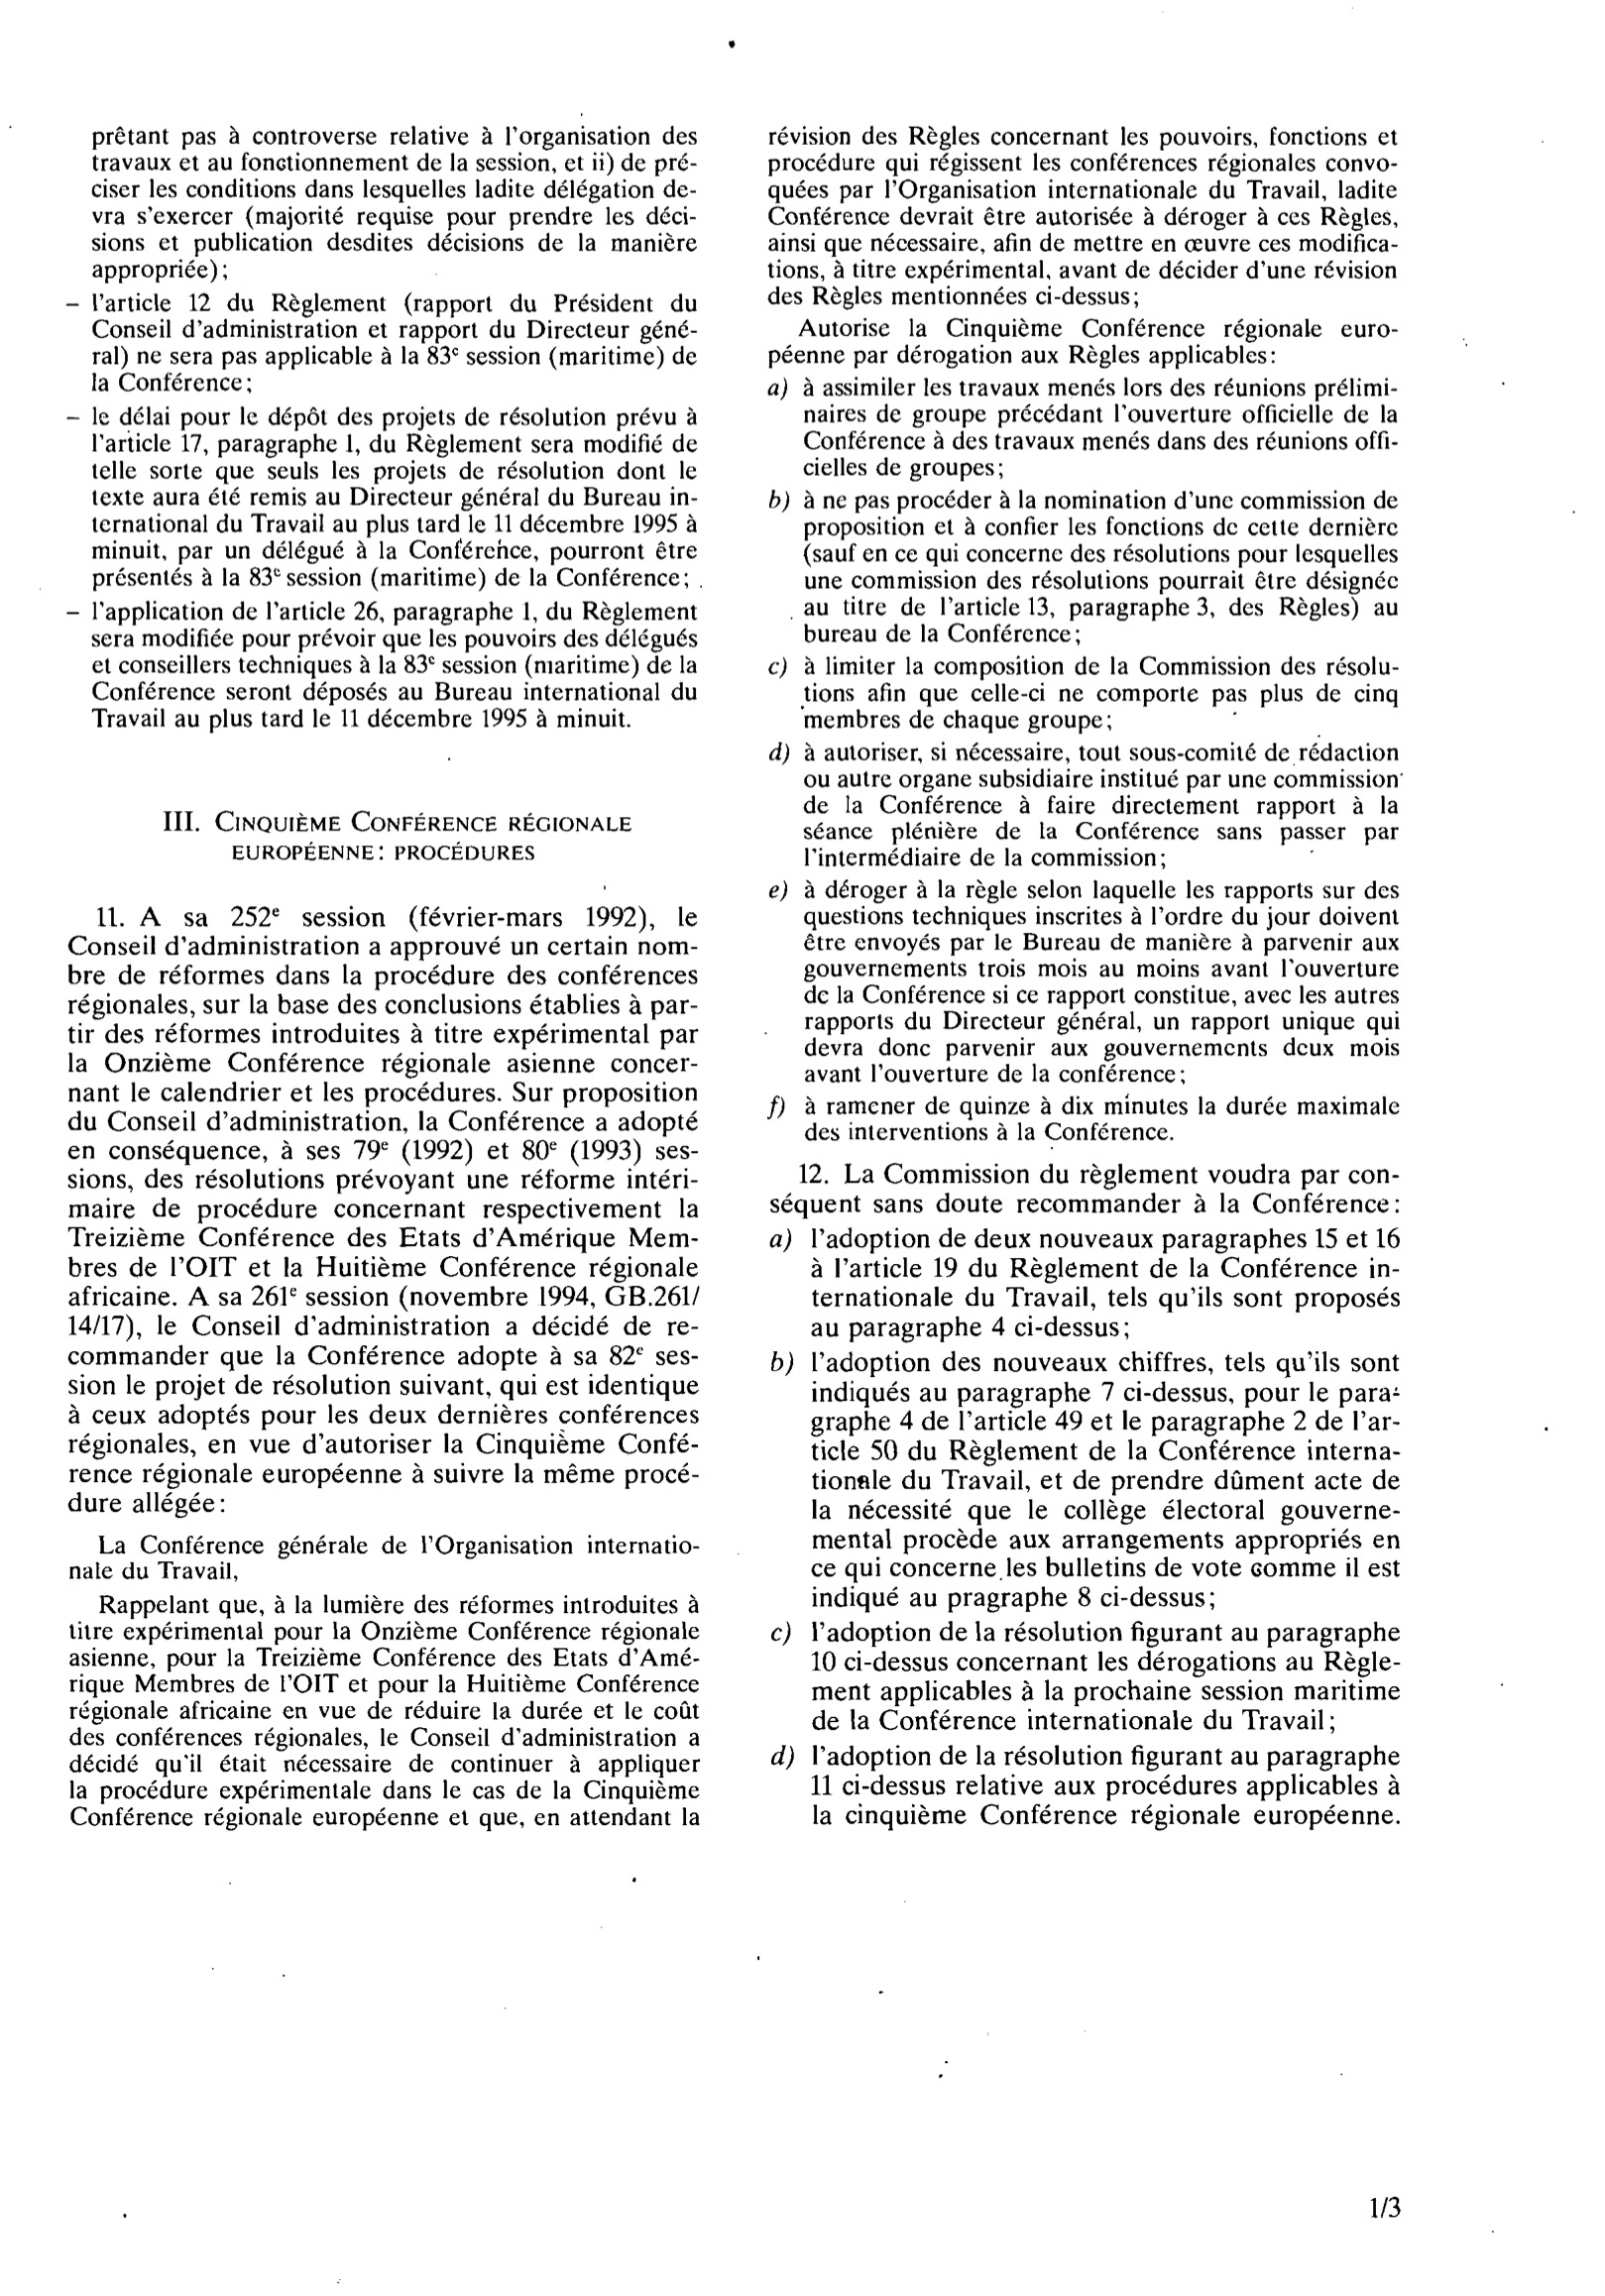MainZone-Continued: (760, 122, 1405, 311), (79, 119, 705, 286)
MainZone-Head: (150, 799, 641, 873)
MainZone-ListItem: (758, 1345, 1409, 1615), (758, 872, 1407, 1088), (58, 401, 708, 593), (759, 484, 1405, 649), (61, 596, 706, 737), (759, 738, 1405, 872), (763, 1223, 1407, 1342), (770, 1615, 1407, 1735), (59, 287, 707, 400), (759, 374, 1405, 483), (765, 1739, 1410, 1836), (759, 650, 1404, 736), (760, 1159, 1406, 1221), (757, 1089, 1403, 1148)
MainZone-P: (60, 895, 711, 1521), (60, 1589, 709, 1837), (60, 1528, 713, 1588), (760, 313, 1405, 373)
TitlePageZone: (1359, 2180, 1413, 2238)
